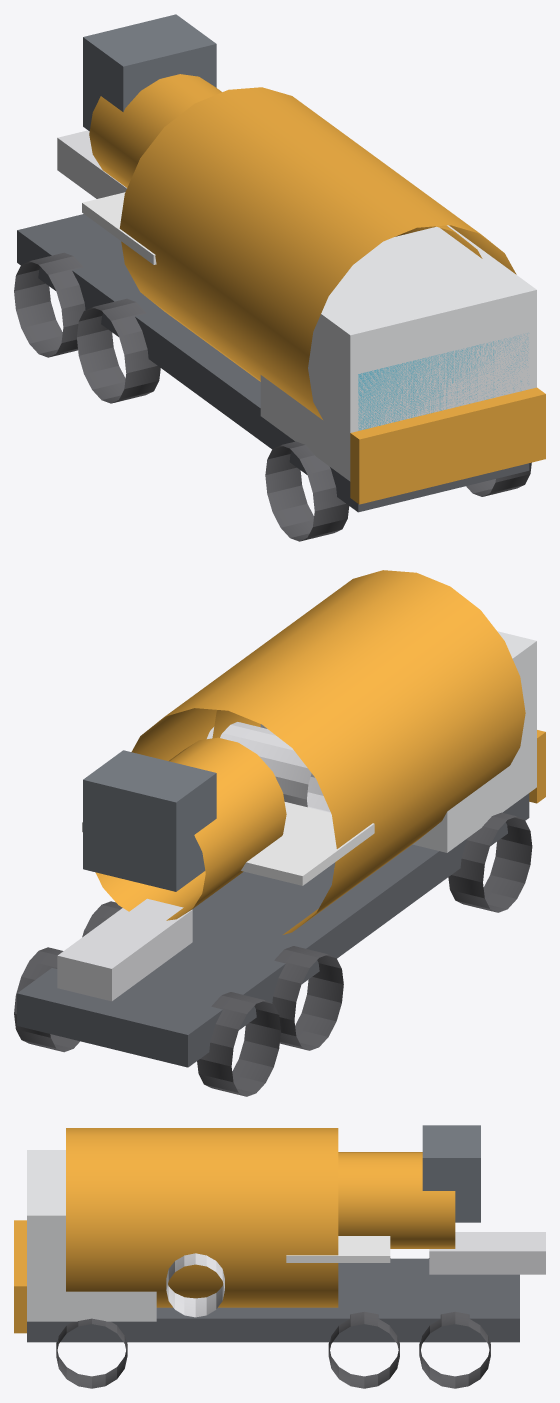
File: concrete_mixer.glb
3 renders of one model, top to bottom at view 1: azimuth 30°, elevation 25°; view 2: azimuth 150°, elevation 25°; view 3: azimuth 270°, elevation 25°, orthographic. The views are drawn at different scales.
Visible parts, largest first — view 1: MixerDrum, MixerDriverCab, TruckChassisFrame, FrontBumper, DischargeHopper, MixerDrumDischargeCone, CabWindshield, WheelL_-1.4, WheelL_2.8, WheelL_-2.8, ConcreteChute, DrumFlightRib (+1 smaller); view 2: MixerDrum, TruckChassisFrame, DischargeHopper, MixerDrumDischargeCone, ConcreteChute, MixerDriverCab, WheelL_-2.8, WheelL_2.8, WheelL_-1.4, DrumFlightRib, WaterTank, WheelR_-2.8 (+1 smaller); view 3: MixerDrum, TruckChassisFrame, MixerDrumDischargeCone, MixerDriverCab, DischargeHopper, ConcreteChute, DrumFlightRib, WaterTank, WheelR_-2.8, WheelR_-1.4, WheelR_2.8, FrontBumper.
Boxes of the visible parts, <box> form: MixerDrum: <box>119,87,516,419</box>; MixerDriverCab: <box>260,225,536,481</box>; TruckChassisFrame: <box>17,214,529,512</box>; FrontBumper: <box>350,387,545,504</box>; DischargeHopper: <box>83,14,216,130</box>; MixerDrumDischargeCone: <box>89,74,221,187</box>; CabWindshield: <box>358,333,528,430</box>; WheelL_-1.4: <box>77,298,160,403</box>; WheelL_2.8: <box>265,441,349,541</box>; WheelL_-2.8: <box>14,252,85,357</box>; ConcreteChute: <box>57,130,126,198</box>; DrumFlightRib: <box>82,192,156,264</box>; MixerDrum: <box>131,570,525,934</box>; TruckChassisFrame: <box>17,793,529,1067</box>; DischargeHopper: <box>83,750,216,891</box>; MixerDrumDischargeCone: <box>95,737,286,920</box>; ConcreteChute: <box>57,898,192,1001</box>; MixerDriverCab: <box>260,631,536,852</box>; WheelL_-2.8: <box>197,992,280,1096</box>; WheelL_2.8: <box>448,812,532,912</box>; WheelL_-1.4: <box>272,946,343,1050</box>; DrumFlightRib: <box>82,802,374,885</box>; WaterTank: <box>207,722,330,812</box>; WheelR_-2.8: <box>14,947,79,1052</box>; MixerDrum: <box>66,1128,338,1307</box>; TruckChassisFrame: <box>27,1258,519,1342</box>; MixerDrumDischargeCone: <box>338,1152,455,1248</box>; MixerDriverCab: <box>27,1150,156,1321</box>; DischargeHopper: <box>422,1125,480,1222</box>; ConcreteChute: <box>429,1232,545,1274</box>; DrumFlightRib: <box>286,1236,390,1262</box>; WaterTank: <box>166,1253,224,1317</box>; WheelR_-2.8: <box>419,1311,490,1388</box>; WheelR_-1.4: <box>328,1311,399,1388</box>; WheelR_2.8: <box>56,1318,127,1388</box>; FrontBumper: <box>14,1220,26,1333</box>.
Size of the model in its own units: 3.22 by 3.65 by 8.2.
